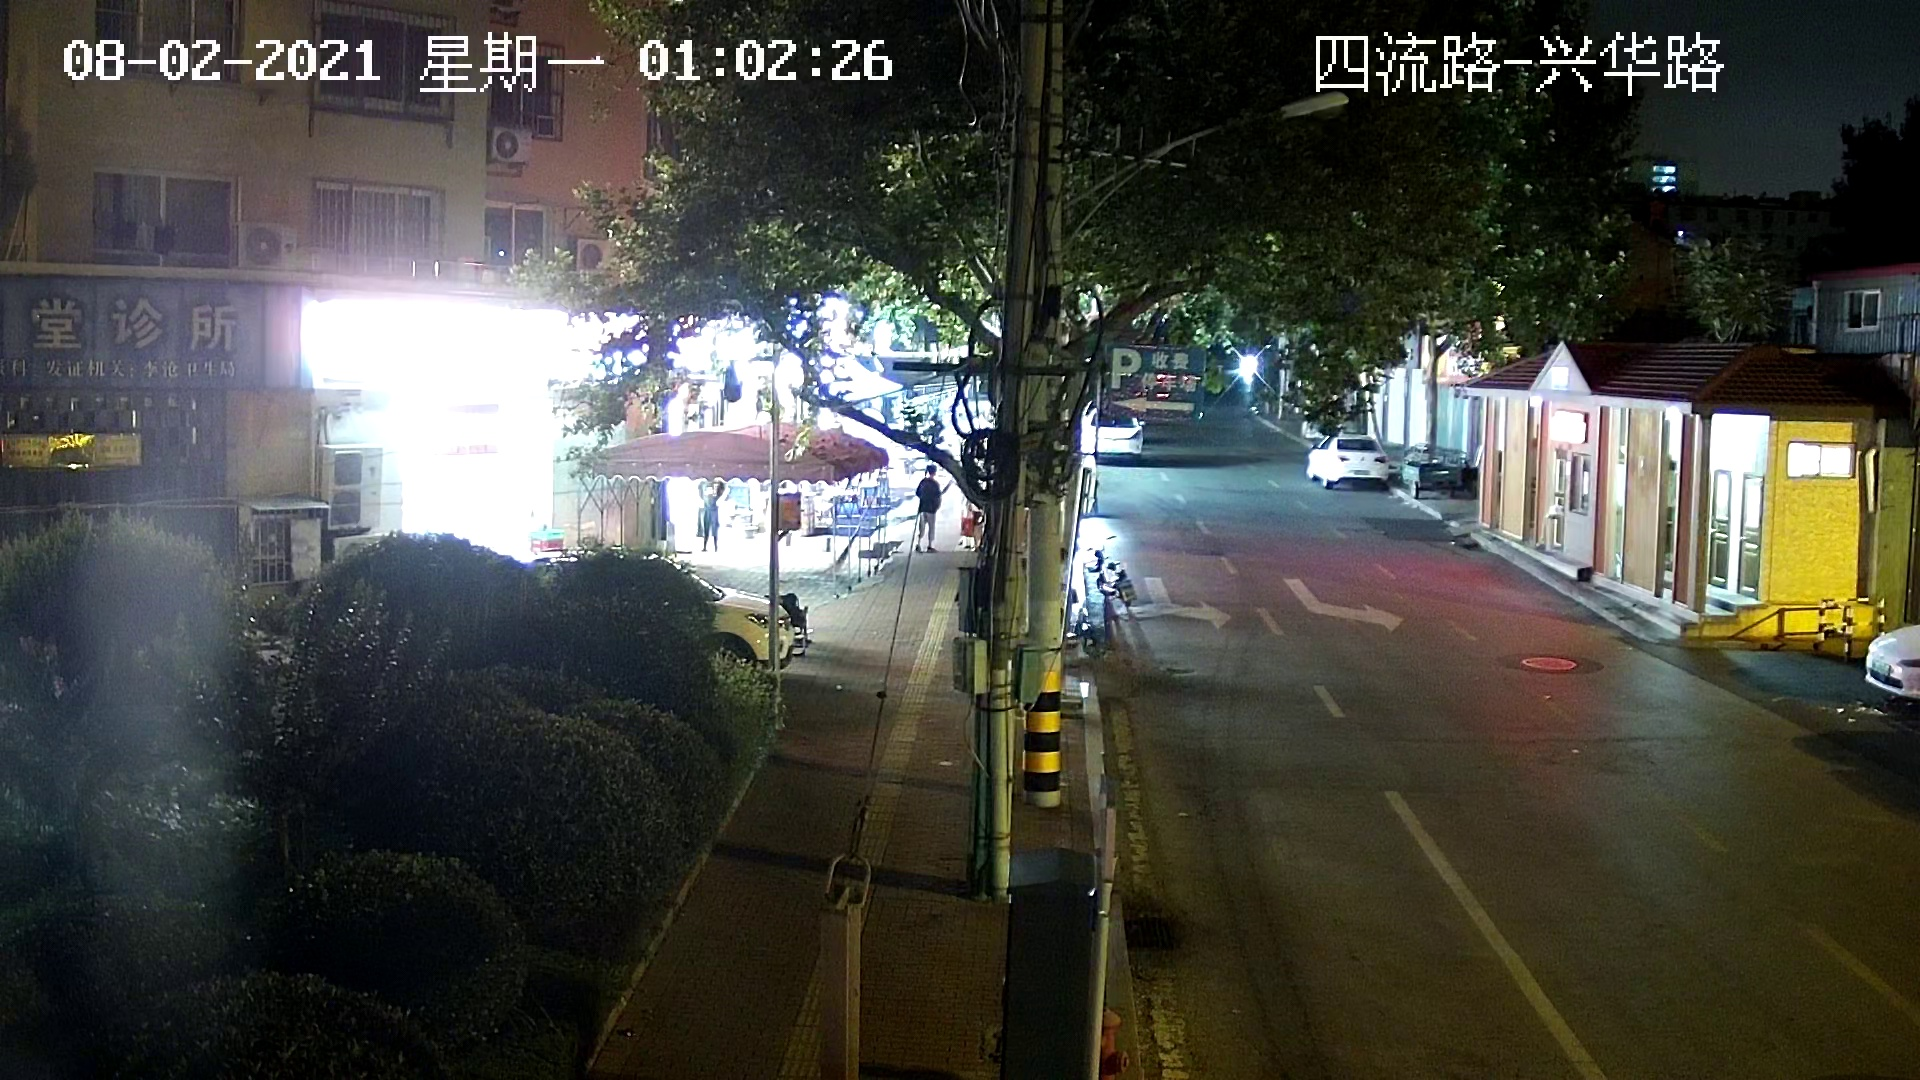umbrella: (582, 418, 890, 487)
uncertain: (814, 479, 895, 542)
